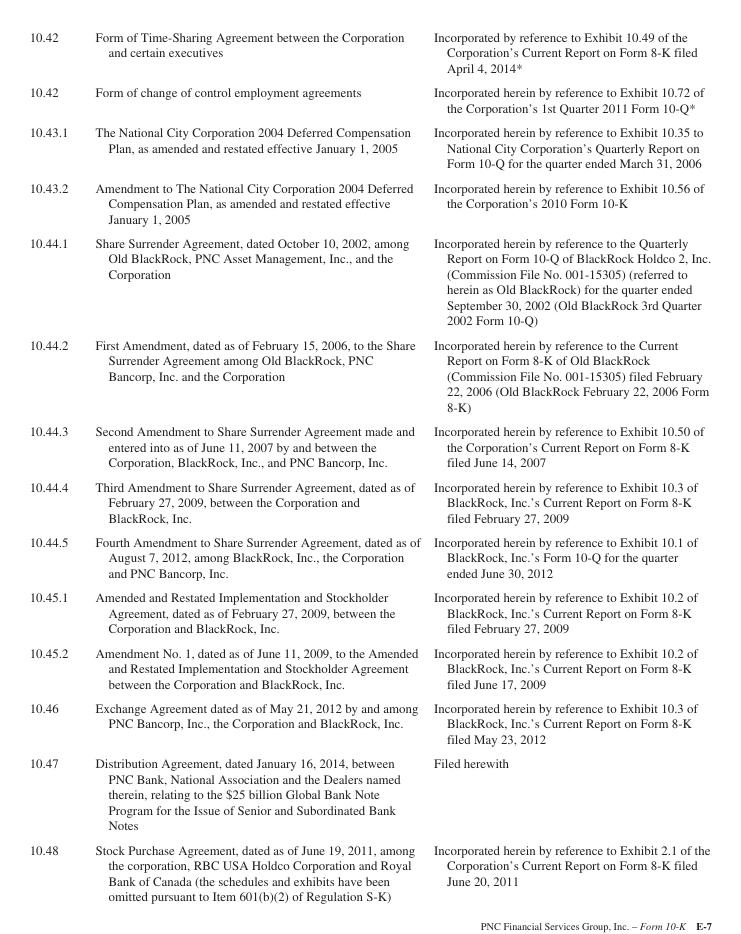table: (28, 29, 710, 903)
table column: (80, 29, 426, 903), (426, 29, 710, 903), (28, 29, 80, 903)
table column header: (28, 29, 710, 79)
table row: (28, 230, 710, 332), (28, 750, 710, 837), (28, 332, 710, 418), (28, 837, 710, 903), (28, 174, 710, 230), (28, 473, 710, 529), (28, 584, 710, 640), (28, 119, 710, 174), (28, 418, 710, 473), (28, 529, 710, 584), (28, 640, 710, 695), (28, 695, 710, 750), (28, 29, 710, 79), (28, 79, 710, 119)
